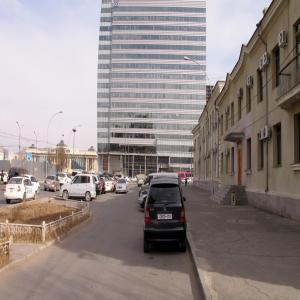Vehicle-registration-plate: (158, 215, 174, 222), (10, 190, 13, 193)
